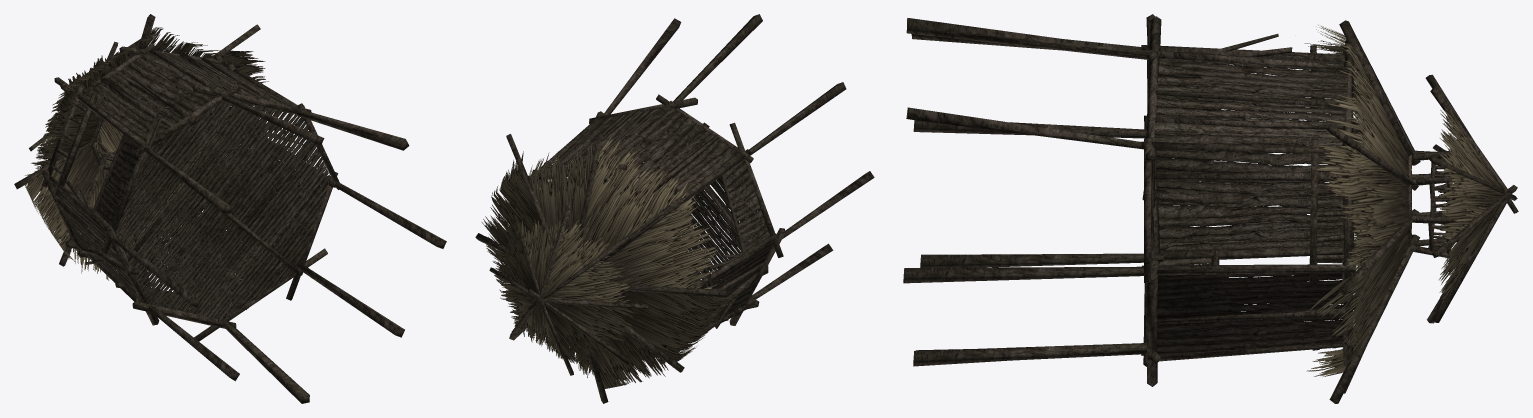
File: Shack_04.fbx
3 renders of one model, left to right at view 1: azimuth 30°, elevation 25°; view 2: azimuth 150°, elevation 25°; view 3: azimuth 270°, elevation 25°, orthographic. The views are drawn at different scales.
Parts seen in each view (by area): view 1: MEP_Shack_04; view 2: MEP_Shack_04; view 3: MEP_Shack_04.
Boxes of the visible parts, bbox=[...] form: MEP_Shack_04: bbox=[14, 14, 446, 403]; MEP_Shack_04: bbox=[475, 14, 874, 403]; MEP_Shack_04: bbox=[903, 14, 1518, 403].
Size of the model in its own units: 8.23 by 8.08 by 11.94.
